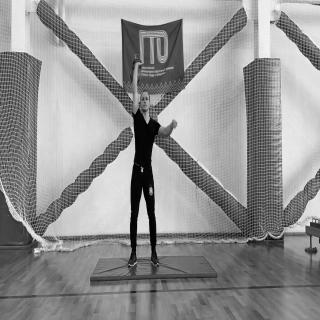kettlebell: (131, 57, 144, 88)
